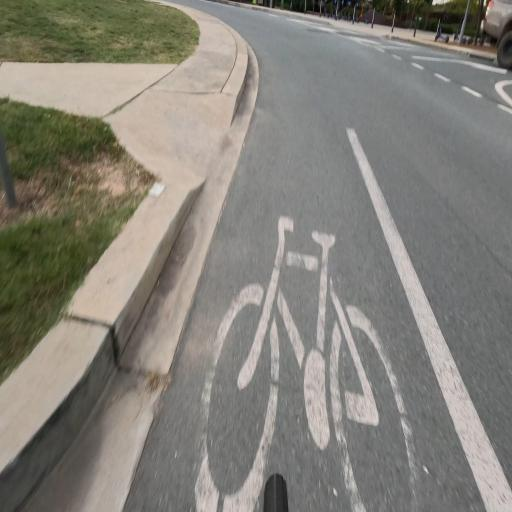kerb_cut: (142, 100, 244, 188)
